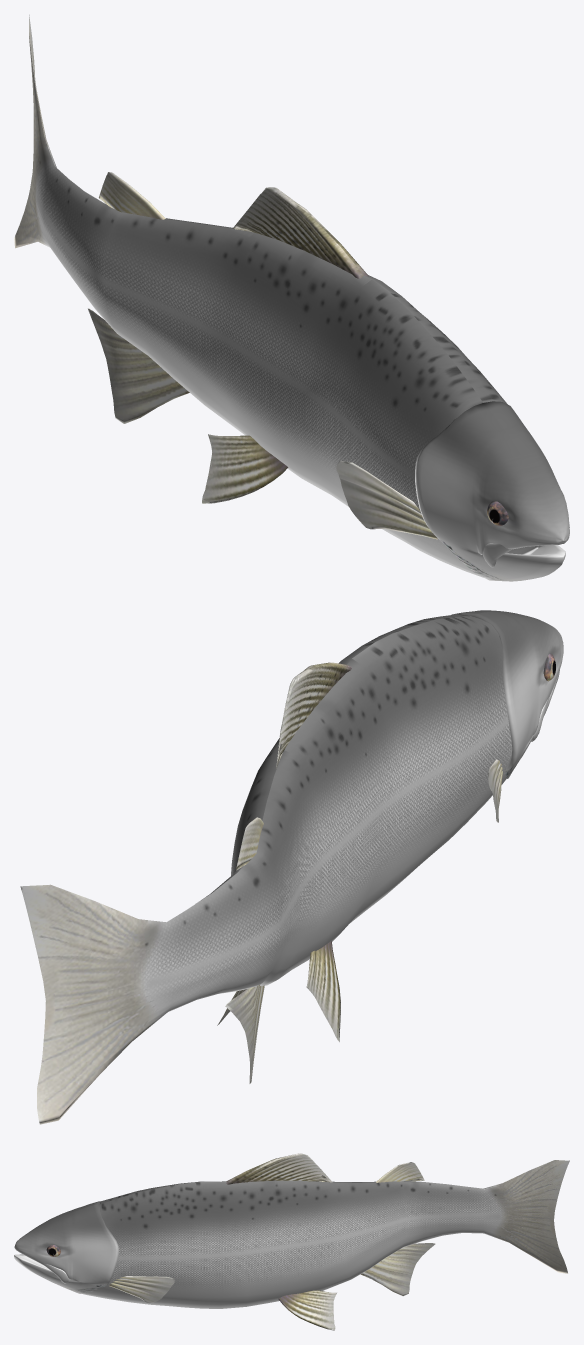
Rendered from sakuraMasuP3-3.obj.
3 views of the same model, one above another, from view 1: azimuth 30°, elevation 25°; view 2: azimuth 150°, elevation 25°; view 3: azimuth 270°, elevation 25° (orthographic). The views are drawn at different scales.
Parts seen in each view (by area): view 1: SakuraMasu_1; view 2: SakuraMasu_1; view 3: SakuraMasu_1.
Part boxes in pixels (<box>): SakuraMasu_1: <box>14,15,569,581</box>; SakuraMasu_1: <box>20,610,563,1124</box>; SakuraMasu_1: <box>14,1153,569,1330</box>.
Bounding box in the file's own units: 0.0651 × 0.1118 × 0.3341.
Materials: 5 (5 with a texture image).
